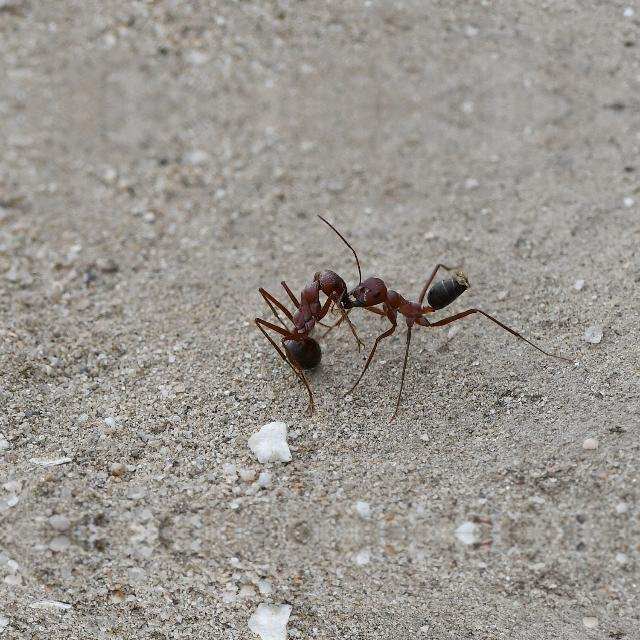Cataglyphis: (252, 248, 354, 379), (334, 257, 490, 339)
